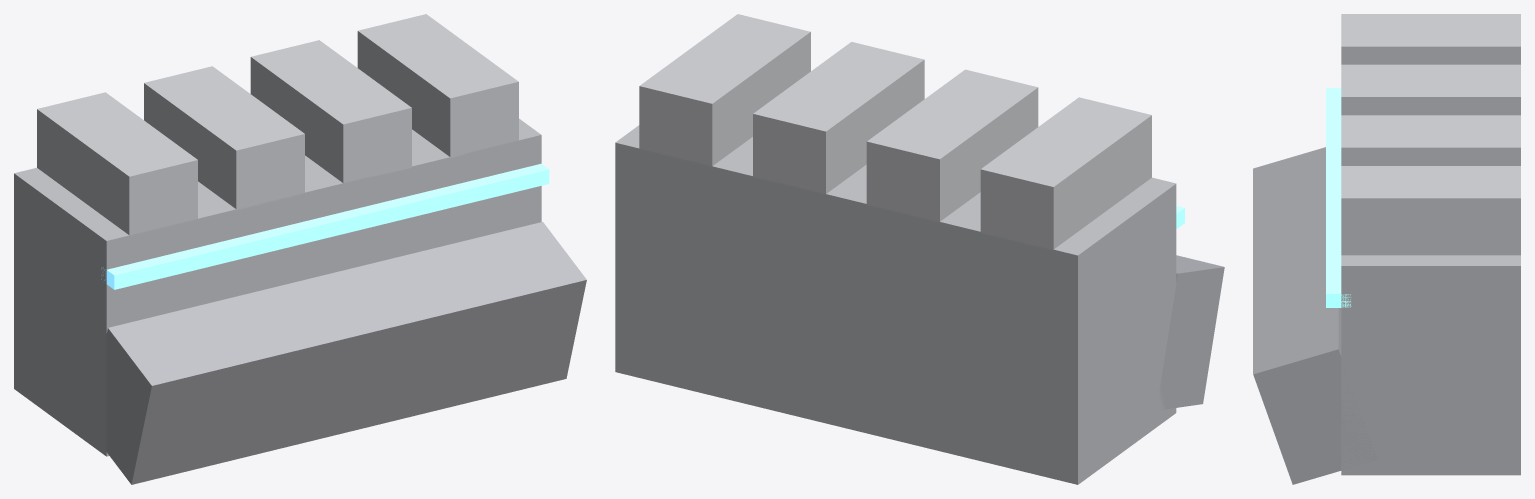
File: seawall.glb
The picture shows the model from 3 angles, left to right: view 1: azimuth 30°, elevation 25°; view 2: azimuth 150°, elevation 25°; view 3: azimuth 270°, elevation 25°; orthographic projection. The views are drawn at different scales.
Visible parts, largest first — view 1: box.002, box.001, box.003, box.005, box.004, box.006, box; view 2: box.001, box.003, box.004, box.005, box.006, box.002; view 3: box.001, box.002, box.006, box.004, box.003, box.005, box.
Part boxes in pixels (left/top/right/bottom): box.002: left=103, top=222, right=586, bottom=484; box.001: left=14, top=118, right=541, bottom=456; box.003: left=37, top=92, right=197, bottom=235; box.005: left=250, top=40, right=411, bottom=183; box.004: left=144, top=66, right=304, bottom=210; box.006: left=357, top=14, right=518, bottom=158; box: left=101, top=163, right=549, bottom=289; box.001: left=615, top=125, right=1176, bottom=484; box.003: left=980, top=97, right=1151, bottom=250; box.004: left=866, top=69, right=1038, bottom=222; box.005: left=753, top=42, right=924, bottom=194; box.006: left=639, top=14, right=810, bottom=166; box.002: left=1159, top=255, right=1224, bottom=409; box.001: left=1341, top=255, right=1520, bottom=475; box.002: left=1253, top=147, right=1377, bottom=484; box.006: left=1341, top=166, right=1520, bottom=255; box.004: left=1341, top=64, right=1520, bottom=115; box.003: left=1341, top=14, right=1520, bottom=64; box.005: left=1341, top=115, right=1520, bottom=165; box: left=1326, top=88, right=1351, bottom=307.
Bounding box in the file's own units: 1.9 × 1.19 × 1.04.
